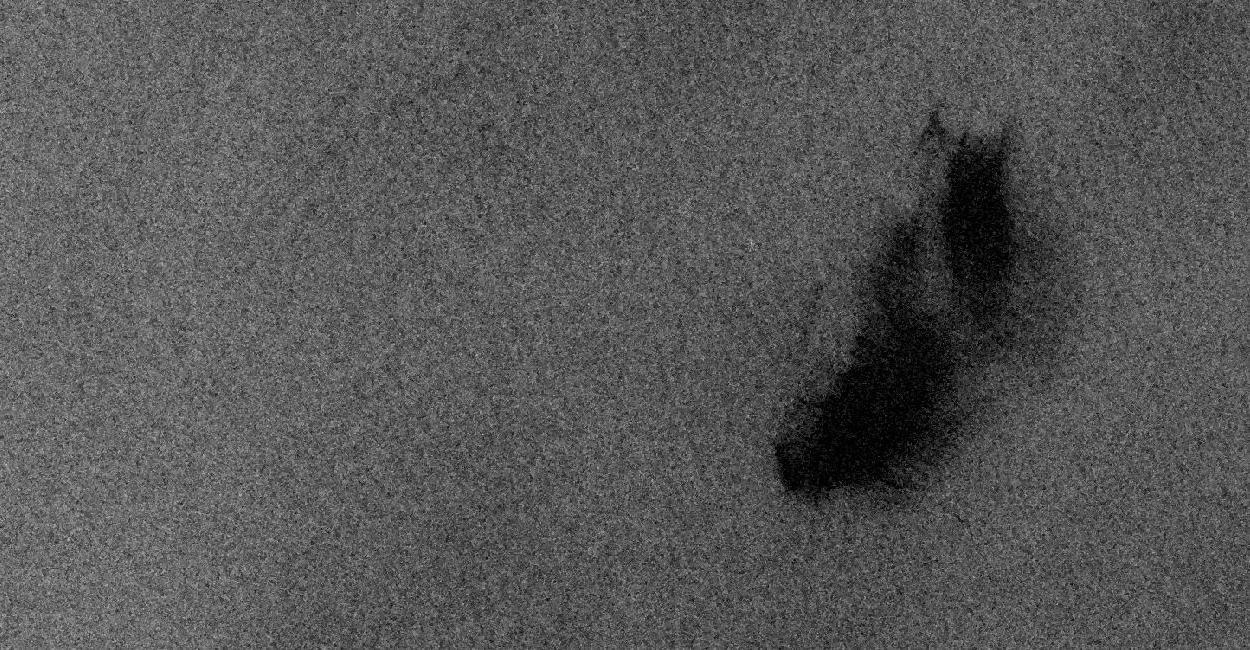Oil Spill: (768, 130, 1046, 508), (924, 271, 950, 286), (926, 232, 936, 258), (1032, 252, 1040, 261), (958, 352, 966, 358), (928, 298, 936, 303), (938, 292, 944, 296), (928, 286, 932, 290), (956, 330, 958, 334), (1034, 244, 1036, 247), (920, 258, 922, 261), (940, 300, 942, 303), (935, 308, 938, 310), (960, 334, 962, 336), (830, 492, 832, 494), (921, 286, 922, 288), (908, 220, 909, 221)
